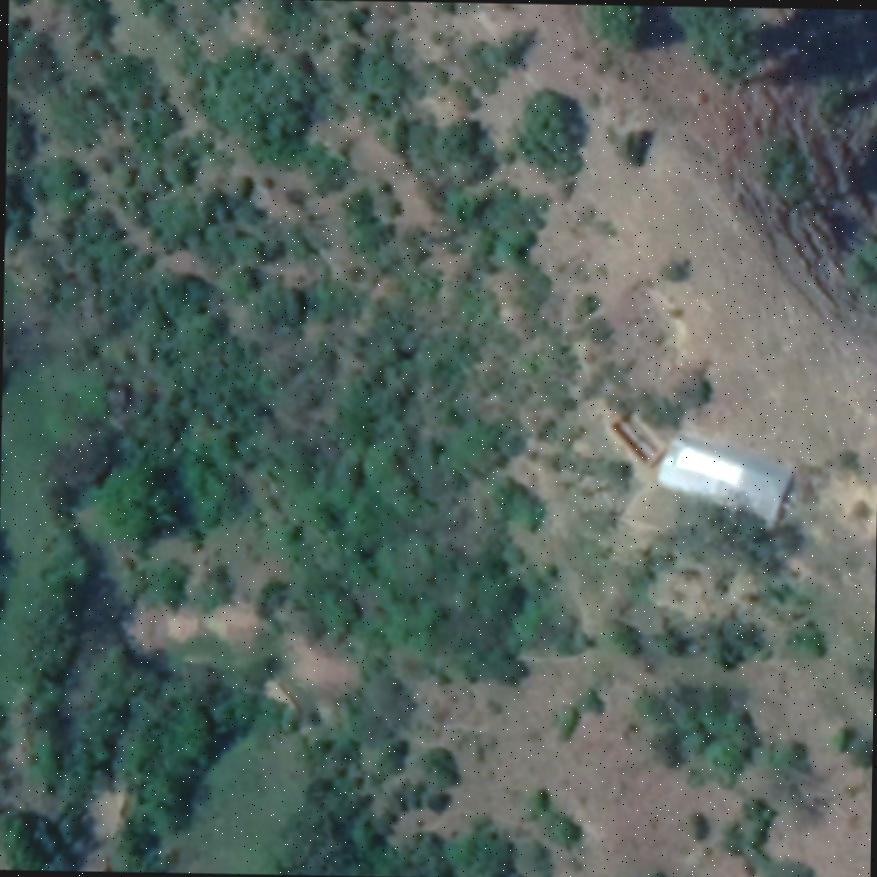Solarpanel: (672, 445, 741, 485)
